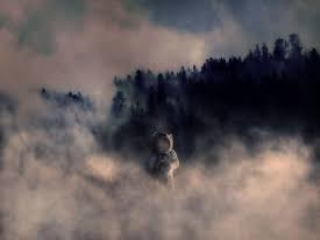smoke: (91, 16, 265, 73)
